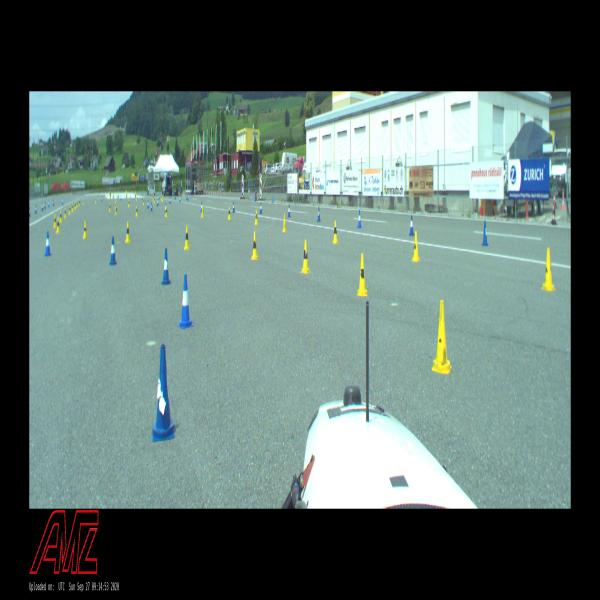blue_cone: (153, 346, 174, 440), (178, 275, 193, 327), (160, 248, 172, 284), (44, 231, 51, 256), (110, 237, 116, 264), (482, 222, 488, 245), (357, 211, 362, 228), (410, 216, 414, 235), (317, 206, 321, 222), (287, 205, 291, 217), (232, 202, 235, 212), (150, 202, 153, 211), (260, 202, 262, 214), (200, 202, 202, 212), (48, 200, 50, 208), (147, 201, 149, 209), (35, 205, 37, 213), (42, 202, 44, 210), (44, 202, 46, 209), (179, 196, 181, 202), (169, 197, 171, 203), (29, 207, 30, 216), (157, 199, 158, 206)
yellow_cone: (432, 300, 451, 374), (542, 248, 555, 291), (358, 254, 367, 296), (300, 240, 311, 272), (251, 231, 259, 259), (412, 233, 420, 261), (184, 226, 190, 249), (332, 221, 338, 243), (126, 222, 131, 242), (282, 215, 287, 232), (83, 221, 87, 239), (56, 217, 60, 232), (254, 210, 258, 224), (53, 214, 56, 227), (228, 207, 231, 219), (59, 210, 62, 222), (165, 206, 168, 217), (135, 206, 138, 217), (115, 204, 118, 215), (64, 208, 66, 218), (202, 206, 204, 216), (109, 203, 111, 211), (69, 206, 71, 214), (128, 200, 130, 207), (76, 201, 78, 207), (72, 203, 73, 211), (143, 198, 144, 205), (75, 202, 76, 209), (79, 200, 80, 206), (83, 200, 84, 204)
